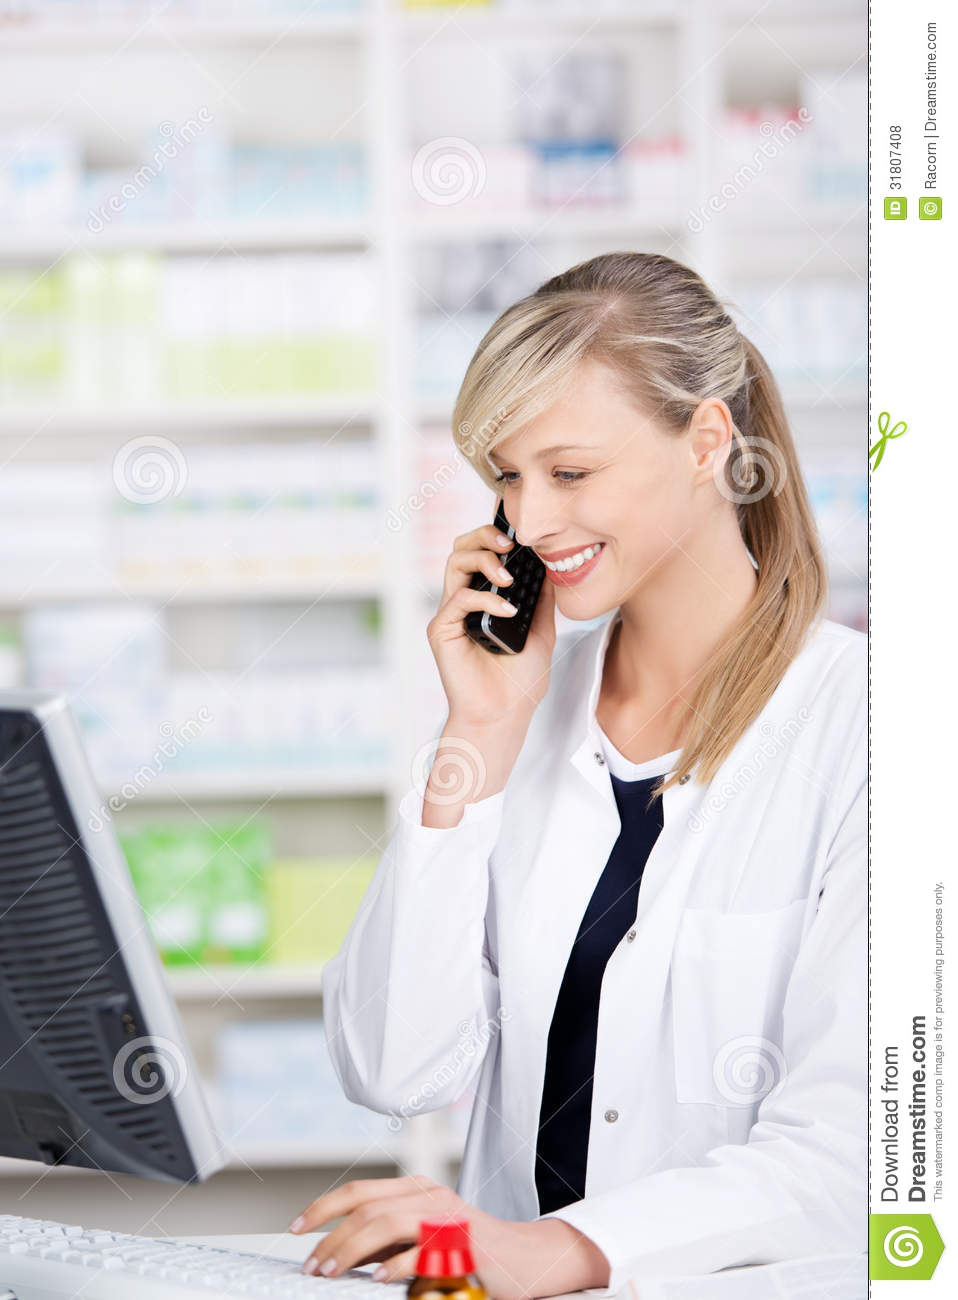phone: (476, 503, 542, 661)
talk: (429, 426, 647, 736)
